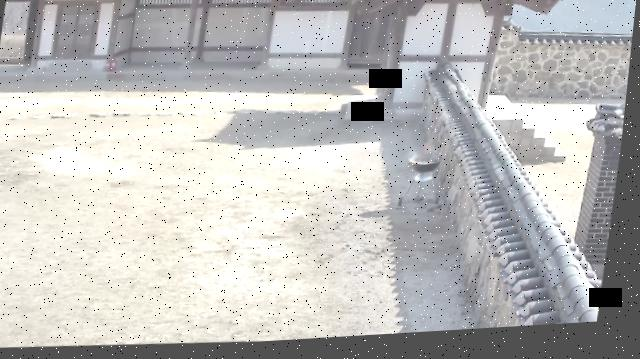smoke: (410, 143, 449, 170)
